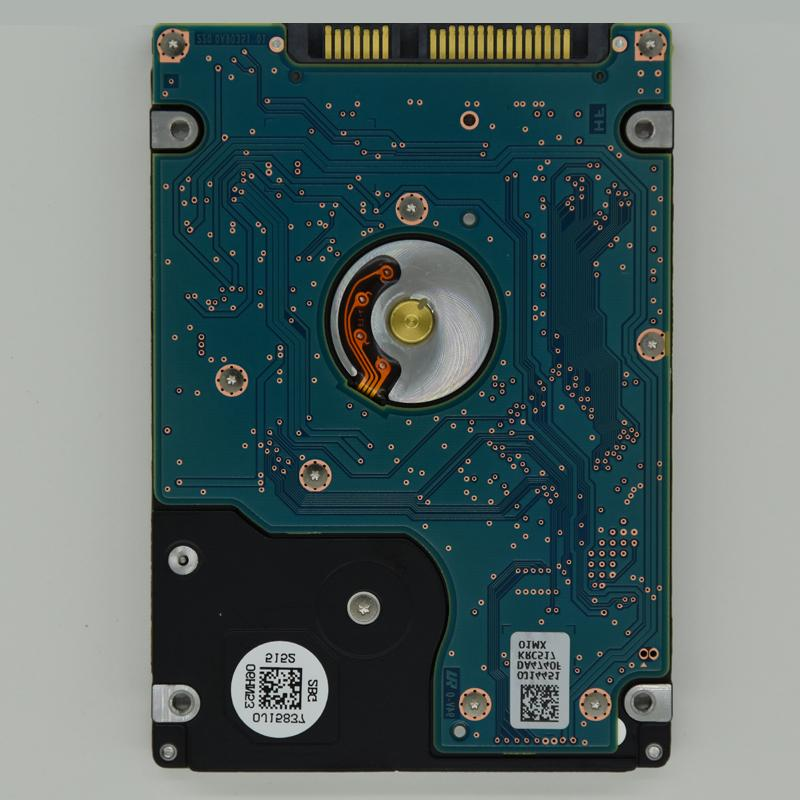internal HDD: (149, 22, 679, 779)
